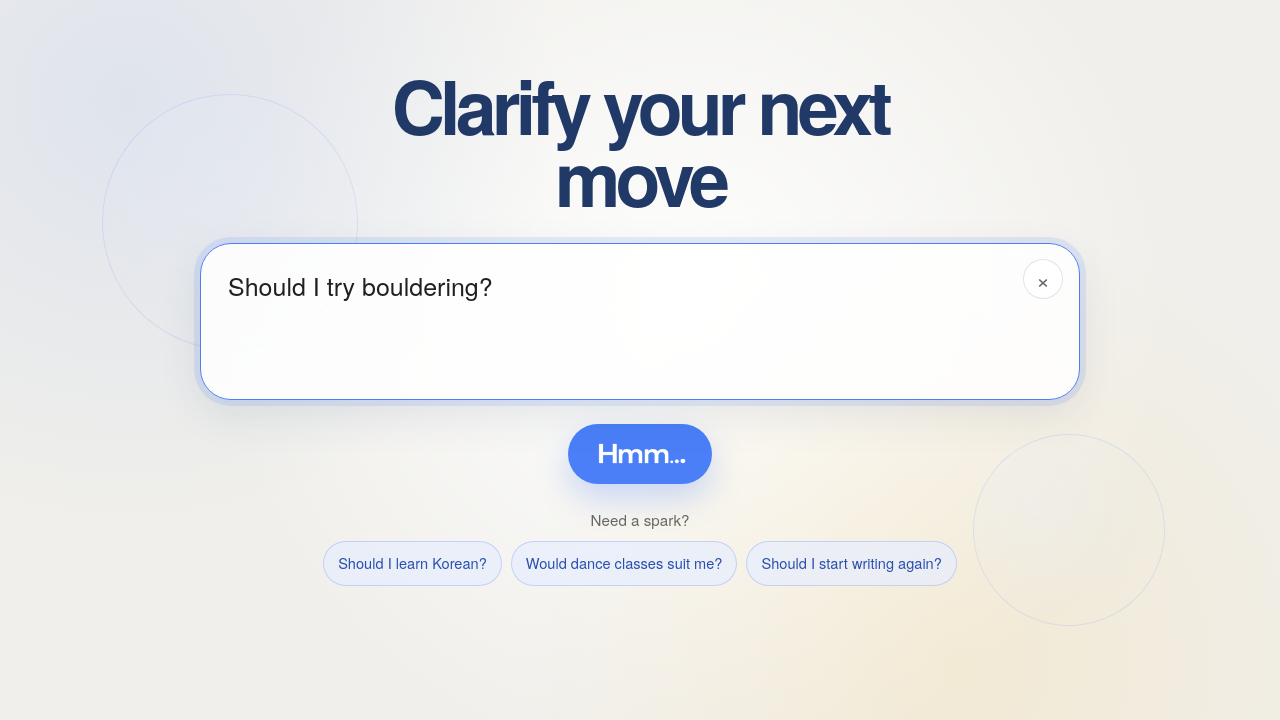
Test: WelcomeSeed › offers three rotating starter prompts that can fill the thought
Click the button "Should I learn Korean?" at [412, 563], box [323, 541, 502, 586]
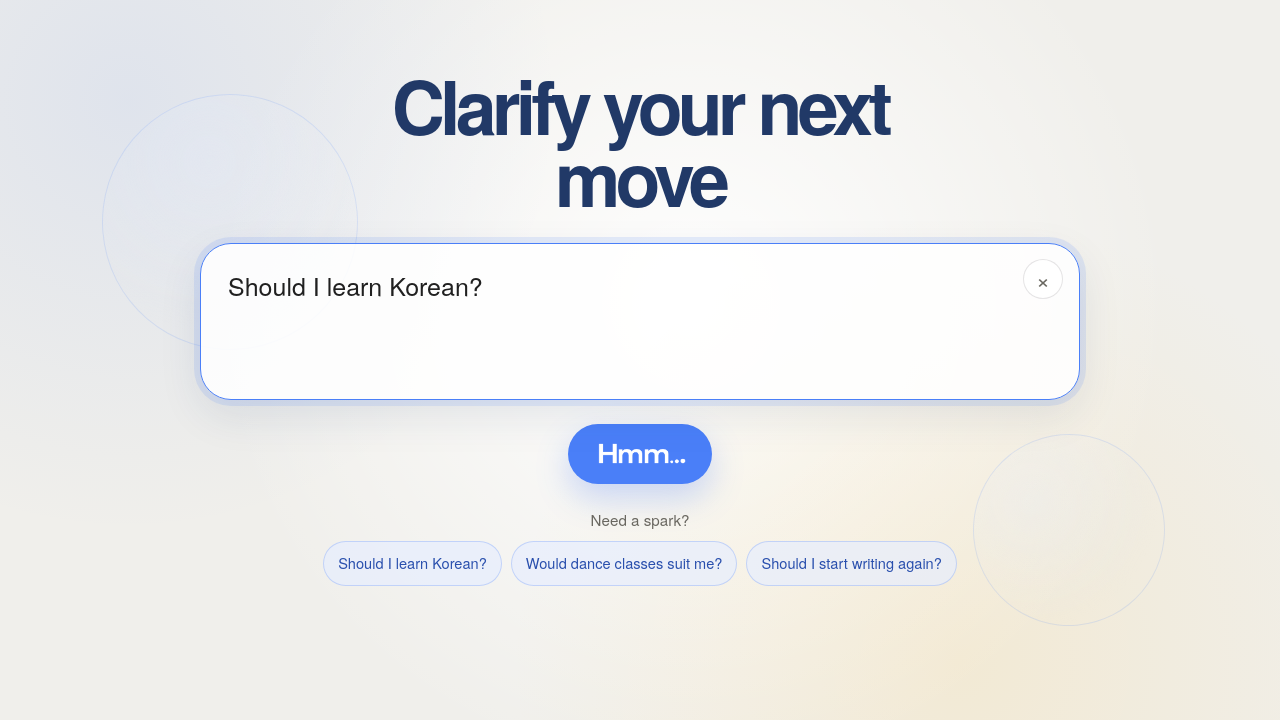
Now the text box named "Your thought" holds "Should I learn Korean?", box [200, 243, 1080, 400]
